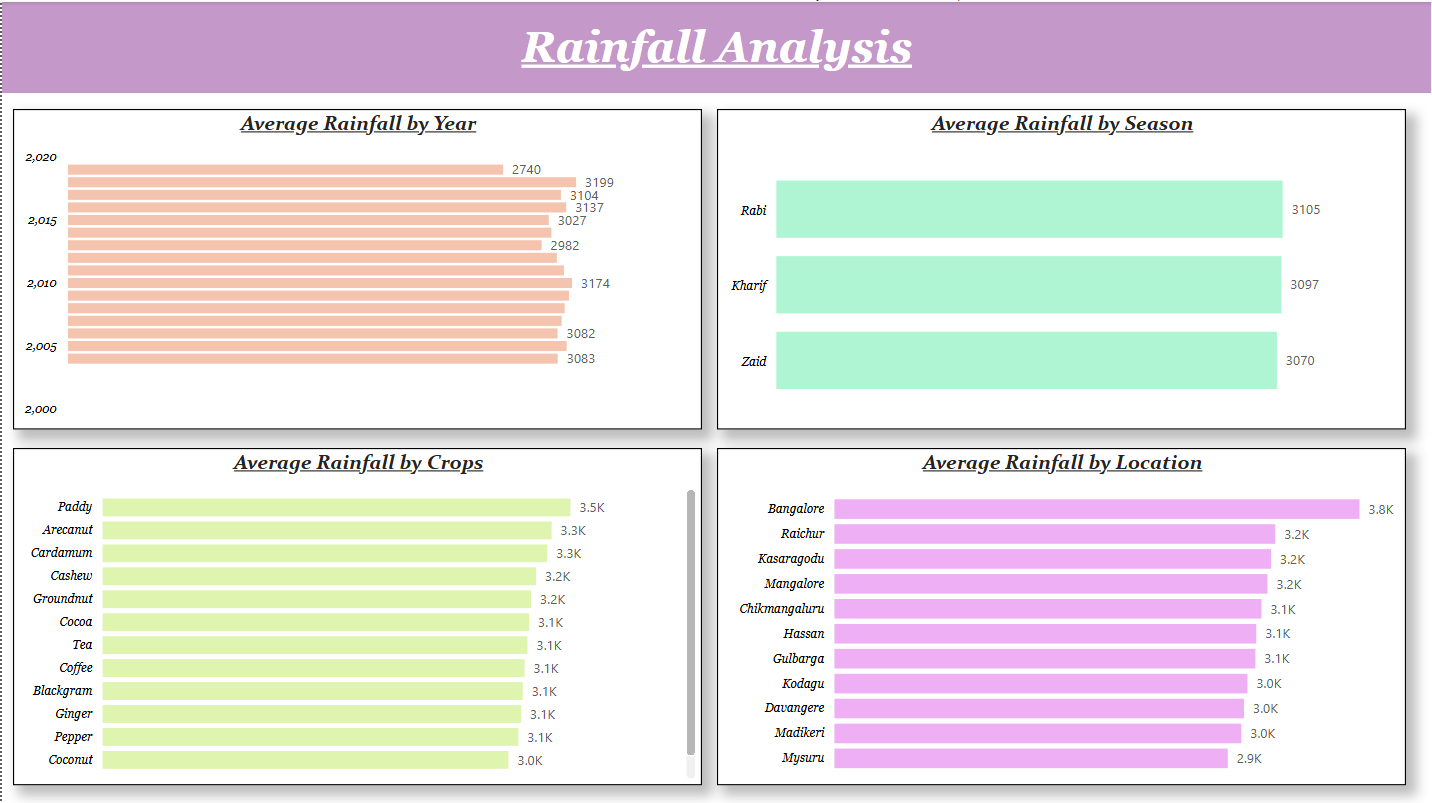

Layout of this report page (visuals, bound fields, positions):
{"tool":"powerbi","page":{"name":"Rainfall Analysis","canvas":[1280,720],"ordinal":0},"visuals":[{"type":"shape","box":[0,0,1280,81.7],"z":0},{"type":"barChart","title":"Average Rainfall by Year","fields":{"Y":["Avg(AGRICULTURE.RAINFALL)"],"Category":["AGRICULTURE.YEAR"]},"box":[10.2,95.6,617.1,286.7],"z":1000},{"type":"barChart","title":"Average Rainfall by Season","fields":{"Y":["Avg(AGRICULTURE.RAINFALL)"],"Category":["AGRICULTURE.SEASON"]},"box":[640.5,95.6,617.1,286.7],"z":2000},{"type":"barChart","title":"Average Rainfall by Crops","fields":{"Y":["Avg(AGRICULTURE.RAINFALL)"],"Category":["AGRICULTURE.CROPS"]},"box":[10.2,399.6,617.1,302],"z":3000},{"type":"barChart","title":"Average Rainfall by Location","fields":{"Y":["Avg(AGRICULTURE.RAINFALL)"],"Category":["AGRICULTURE.LOCATION"]},"box":[640.5,399.6,617.1,302],"z":4000}]}

Visuals, with their boxes in screenshot pixels (x1, y1, x2, y2), scaled from the page's 1280x720 canvas onto the 1432x803 screenshot:
shape: rect(0, 0, 1431, 91)
"Average Rainfall by Year" barChart: rect(11, 107, 702, 426)
"Average Rainfall by Season" barChart: rect(717, 107, 1407, 426)
"Average Rainfall by Crops" barChart: rect(11, 446, 702, 782)
"Average Rainfall by Location" barChart: rect(717, 446, 1407, 782)
